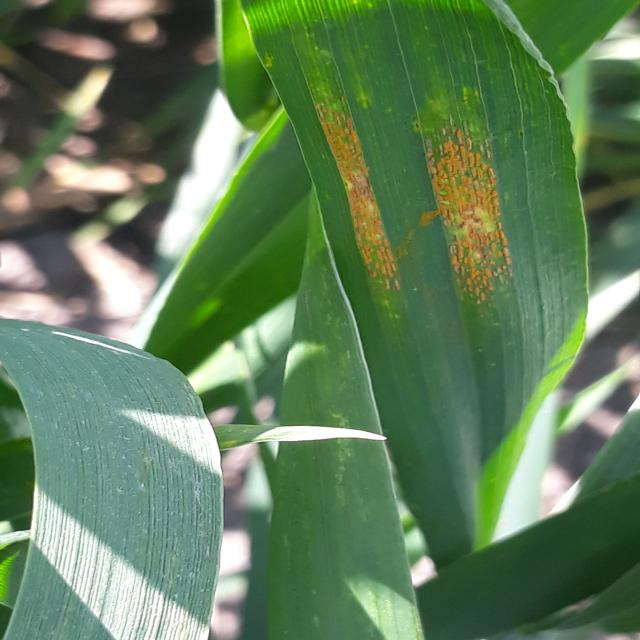yellow_rust: (215, 14, 640, 456)
